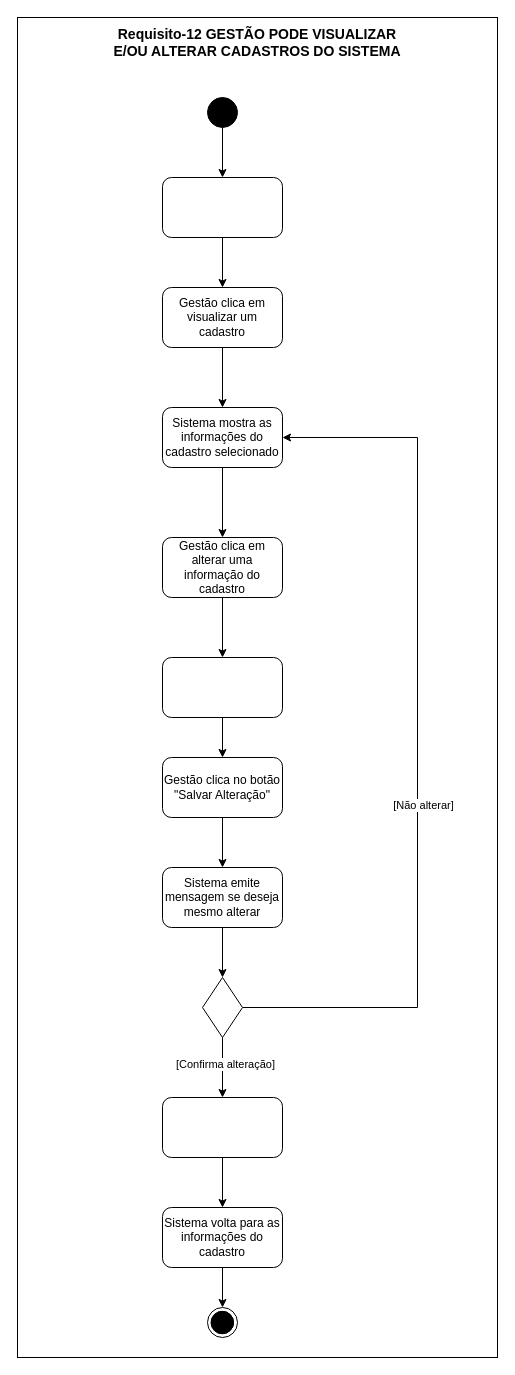
Some shapes in this 515 by 1375 pixel diagram are drawn without their labels. Here are the shapes that lost their labels. From the top down, the centre of each, then its label:
At (222,207): "Gestão entra no sistema".
At (222,687): "Gestão altera a informação".
At (222,1127): "Sistema emite mensagem de sucesso na alteração".
